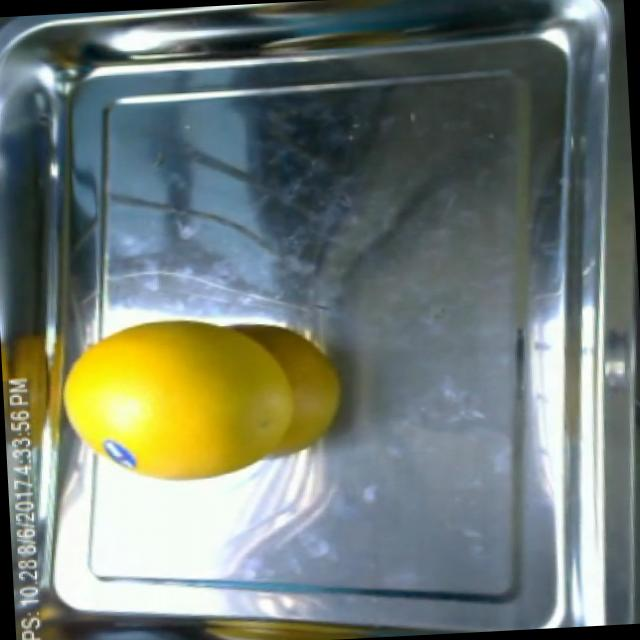Fruit: (48, 309, 258, 472)
